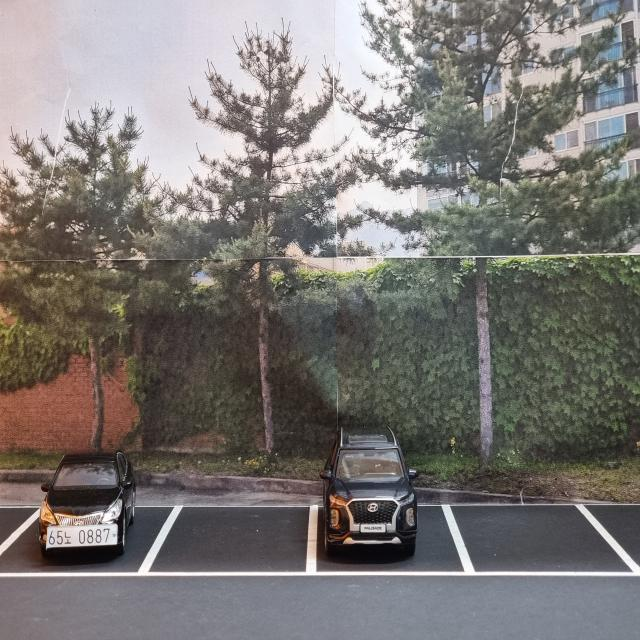empty: (438, 501, 640, 586), (141, 502, 321, 580)
occupied: (322, 425, 427, 563), (27, 454, 150, 564)
